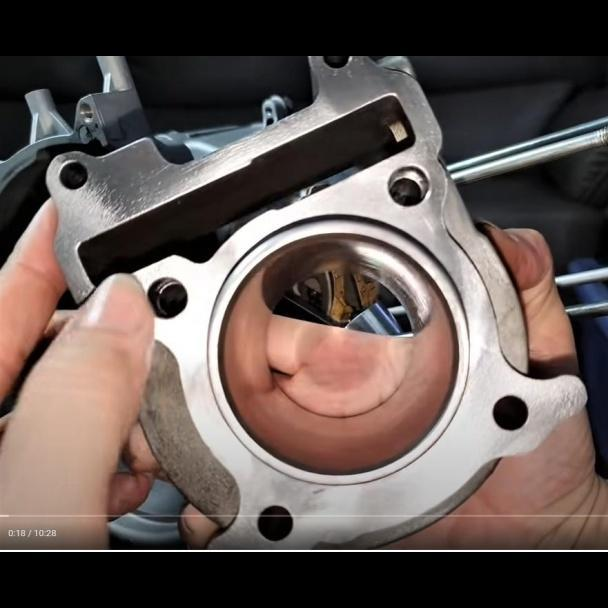hole: (142, 276, 191, 321), (386, 165, 431, 209), (490, 393, 533, 434), (256, 503, 296, 543)
